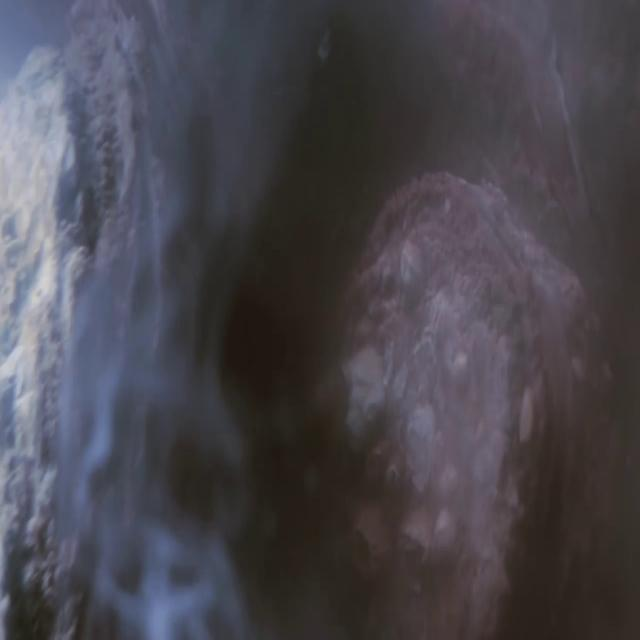Oyster-Closed: (4, 13, 212, 634)
Oyster-Indeterminate: (304, 166, 625, 634)
